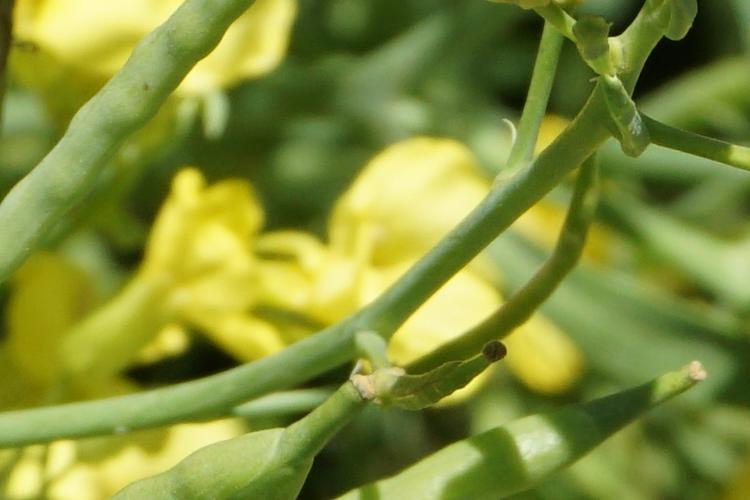pod: (290, 316, 708, 474), (150, 370, 383, 482), (354, 338, 561, 423)
